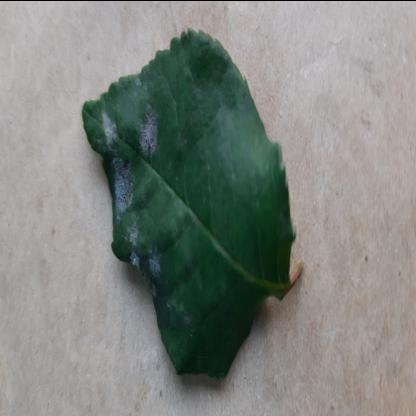powdery-mildew: (82, 23, 294, 386)
